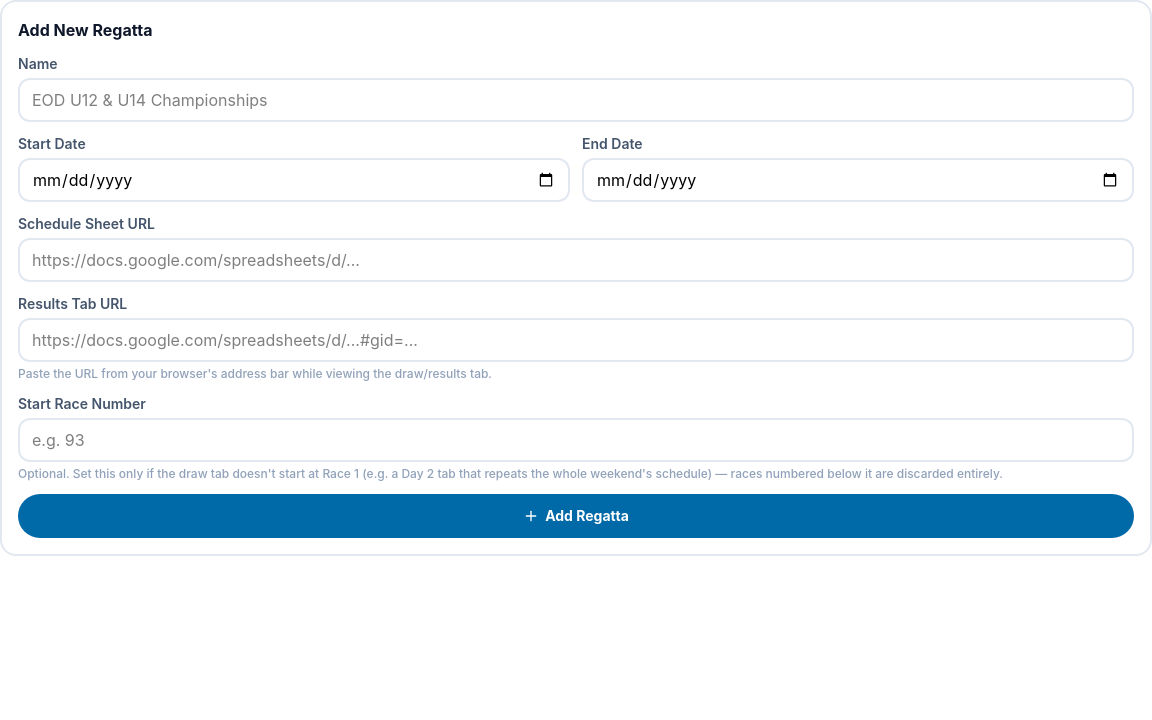
it: AdminRegattaForm › shows the error message and keeps the form filled in when submission fails
Type "Test Regatta" into the field labelled "Name" at (576, 100), box [18,78,1134,122]
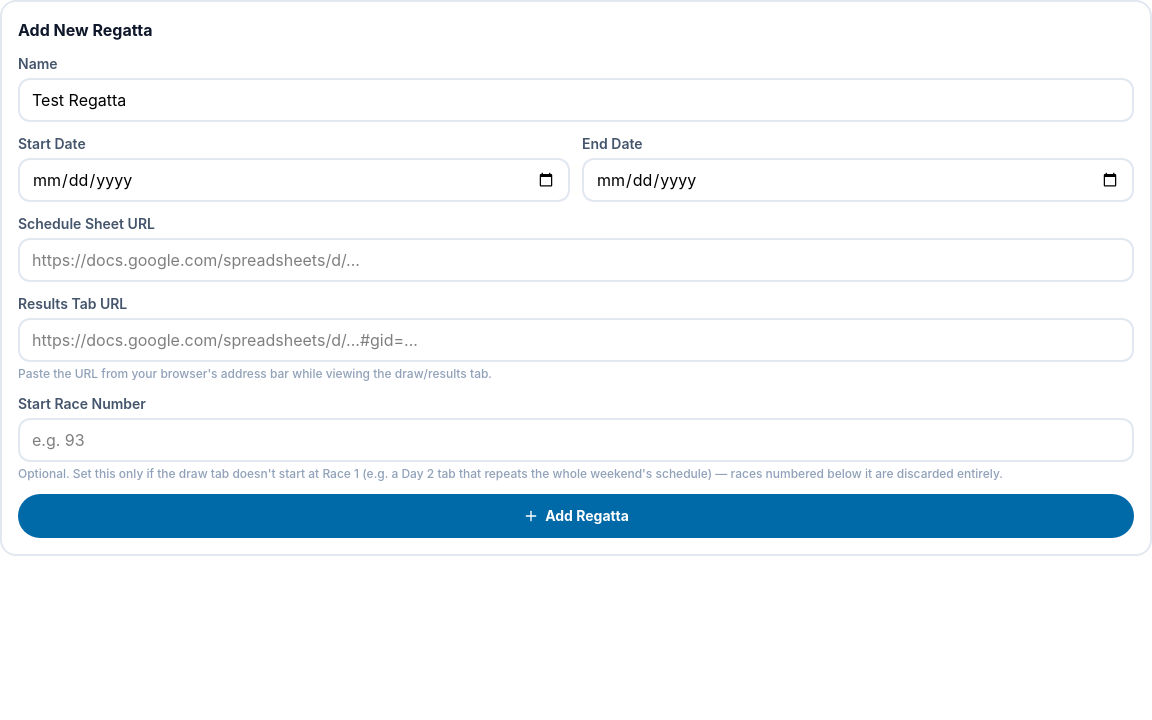
Type "https://docs.google.com/spreadsheets/d/abc123/edit" into the field labelled "Schedule Sheet URL" at (576, 260), box [18,238,1134,282]
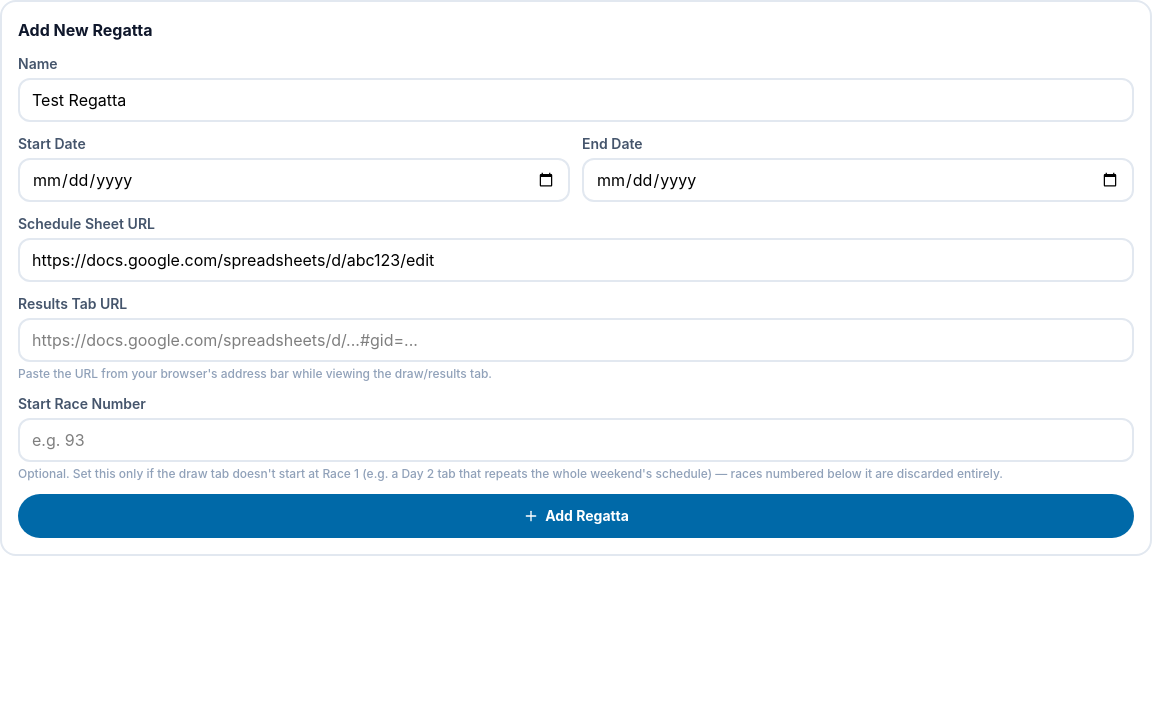
Type "https://docs.google.com/spreadsheets/d/abc123/edit#gid=456" into the field labelled "Results Tab URL" at (576, 340), box [18,318,1134,362]
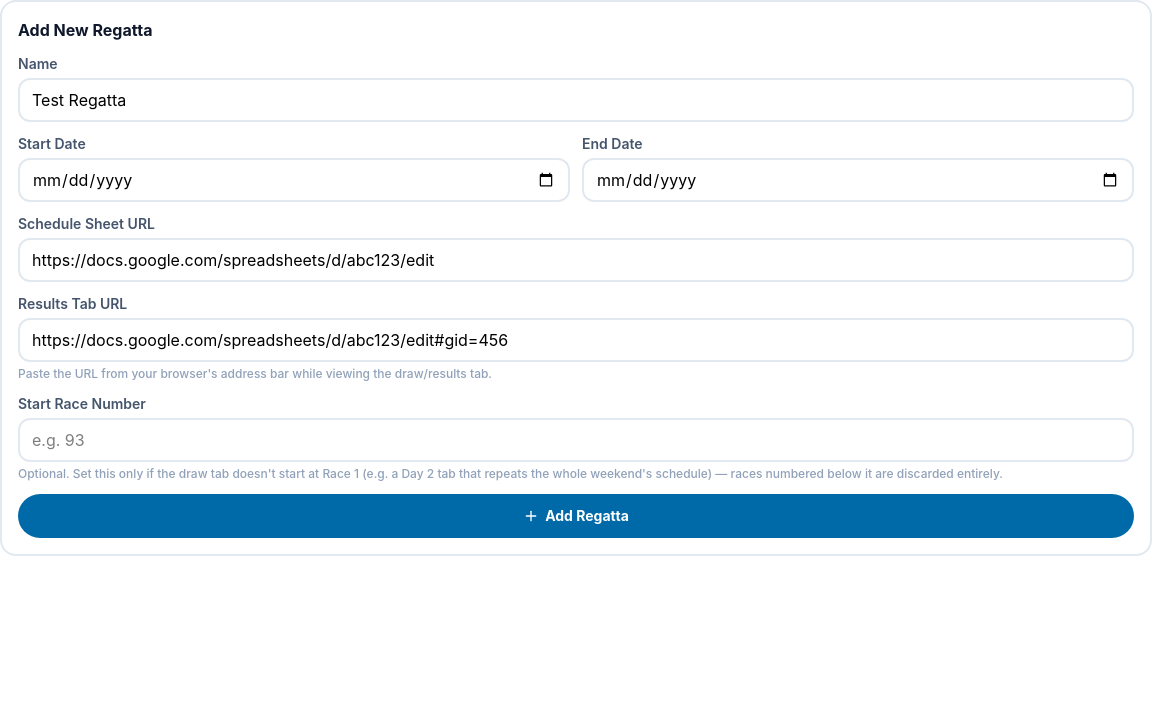
Type "2026-08-15" into the date field labelled "Start Date" at (294, 180), box [18,158,570,202]
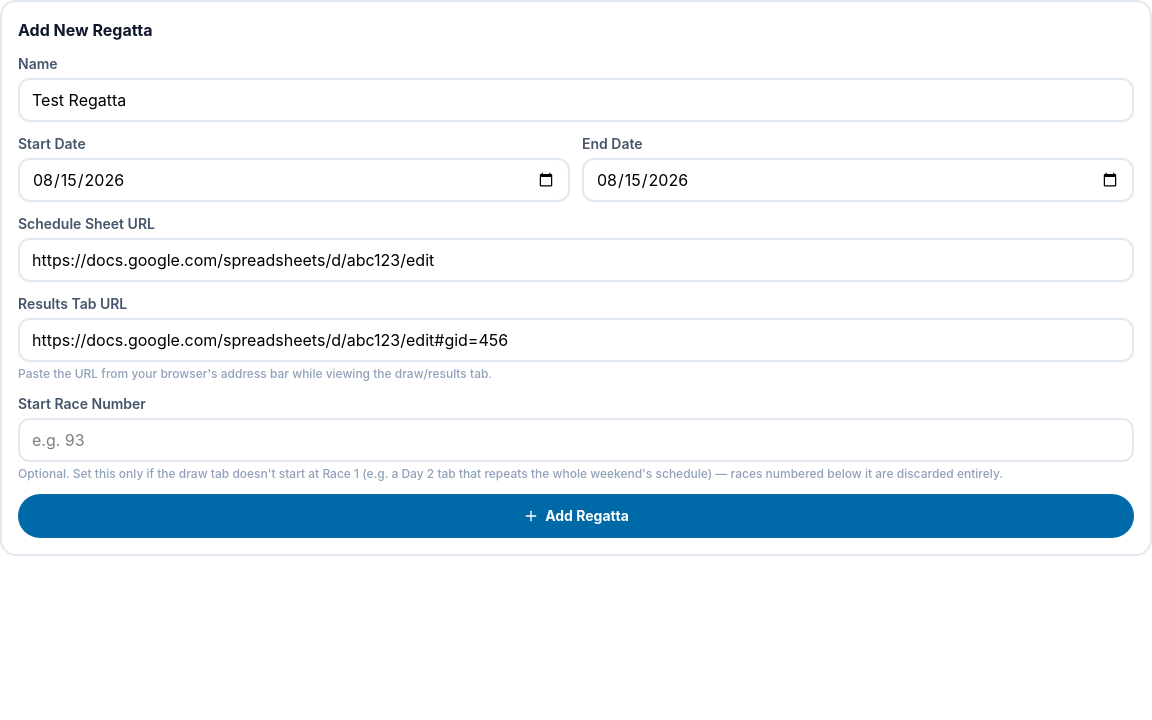
Click the button "Add Regatta" at (576, 516), box [18,494,1134,538]
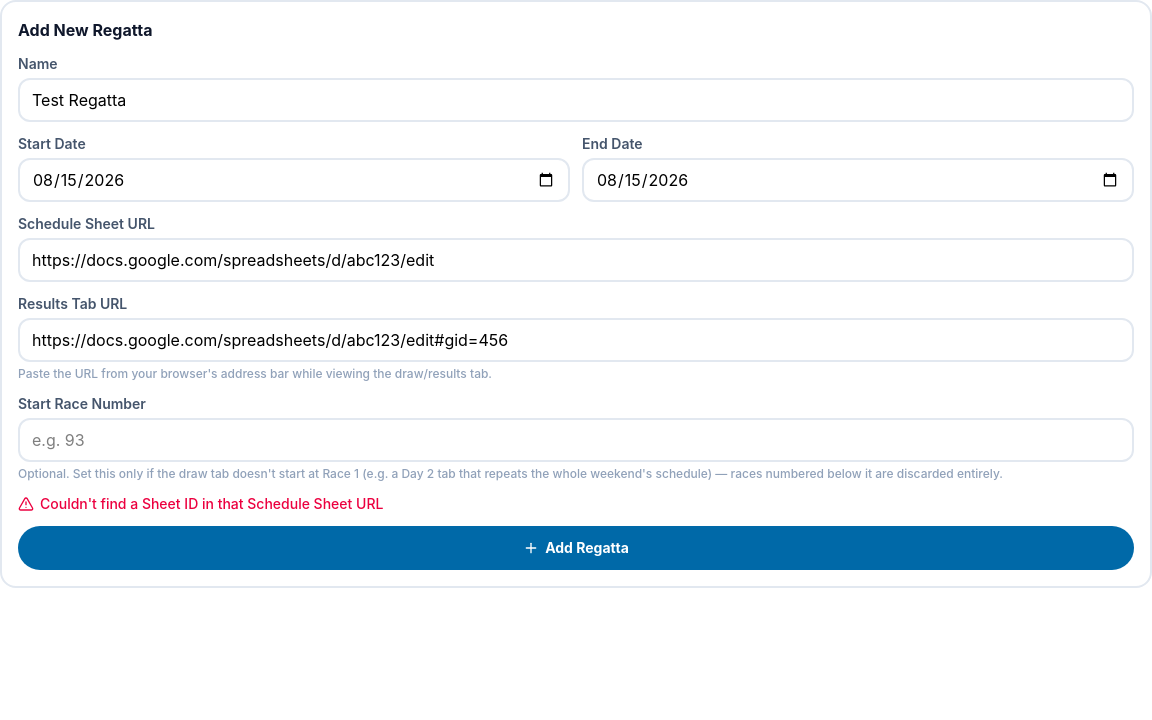
Now the text "Couldn't find a Sheet ID in that Schedule Sheet URL" is shown, box [18,495,383,512]
